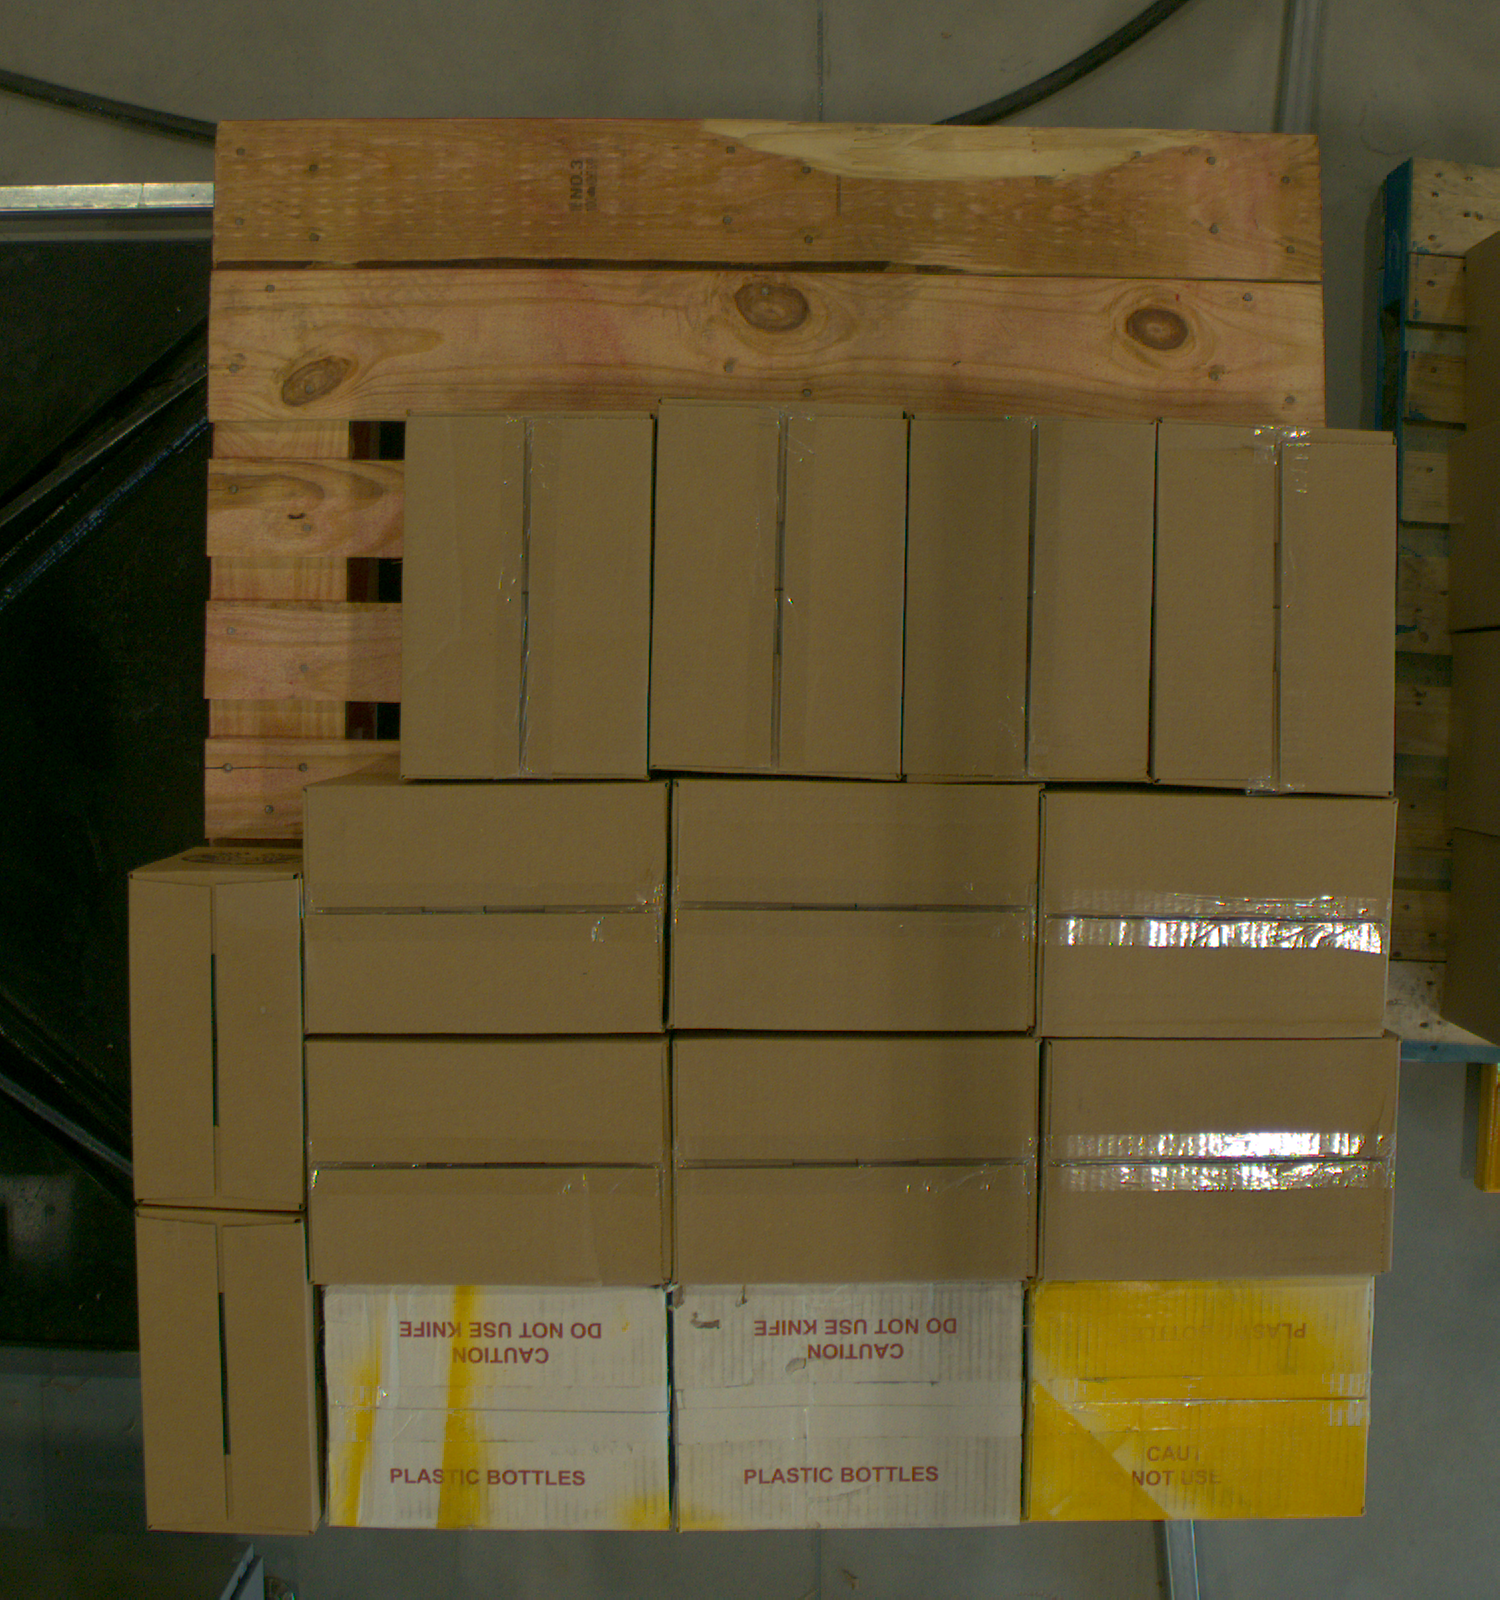box top: (1155, 419, 1397, 796), (656, 405, 904, 773), (906, 416, 1153, 785), (672, 782, 1038, 1030), (362, 727, 609, 1093), (407, 412, 647, 781), (674, 1040, 1038, 1281), (368, 984, 610, 1345), (1039, 1040, 1401, 1281), (726, 1231, 971, 1582), (1026, 1276, 1375, 1521), (1040, 796, 1389, 1038), (376, 1236, 617, 1579), (130, 874, 303, 1212), (137, 1210, 314, 1535)
